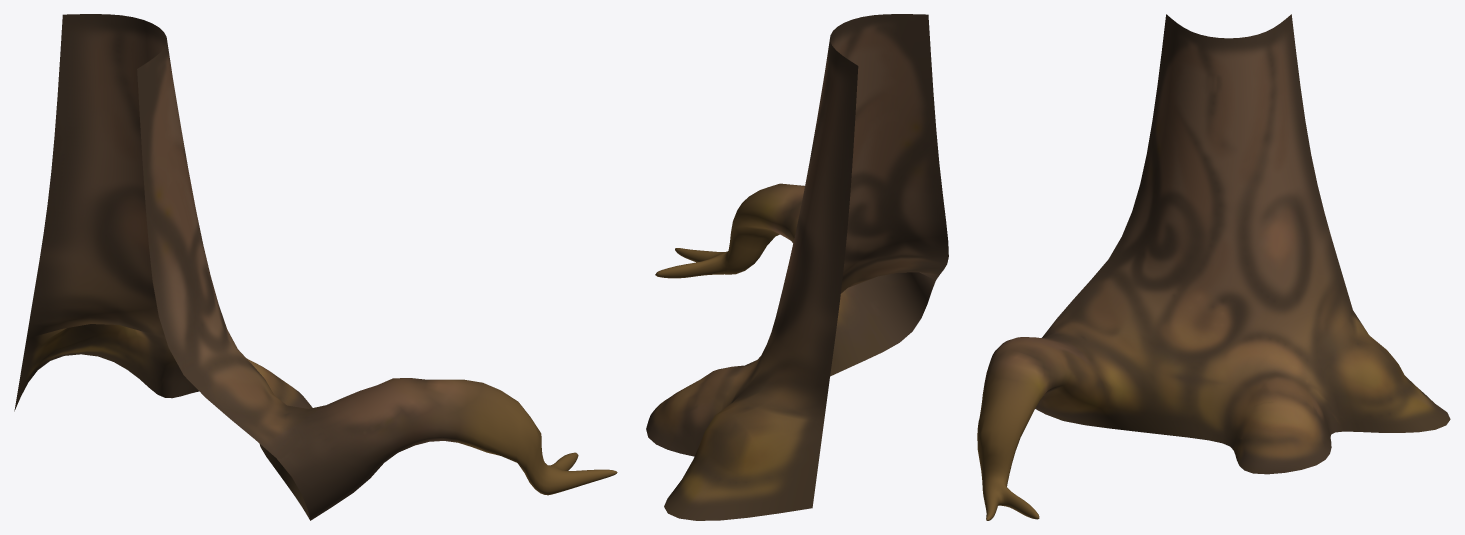
Rendered from Tree_2.fbx.
3 renders of one model, left to right at view 1: azimuth 30°, elevation 25°; view 2: azimuth 150°, elevation 25°; view 3: azimuth 270°, elevation 25°, orthographic. The views are drawn at different scales.
Visible parts, largest first — view 1: Tree_2; view 2: Tree_2; view 3: Tree_2.
Boxes of the visible parts, <box> form: Tree_2: <box>14,14,617,520</box>; Tree_2: <box>646,14,948,520</box>; Tree_2: <box>977,14,1450,520</box>.
Bounding box in the file's own units: 388 × 429 × 503.
Materials: 1 (1 with a texture image).
